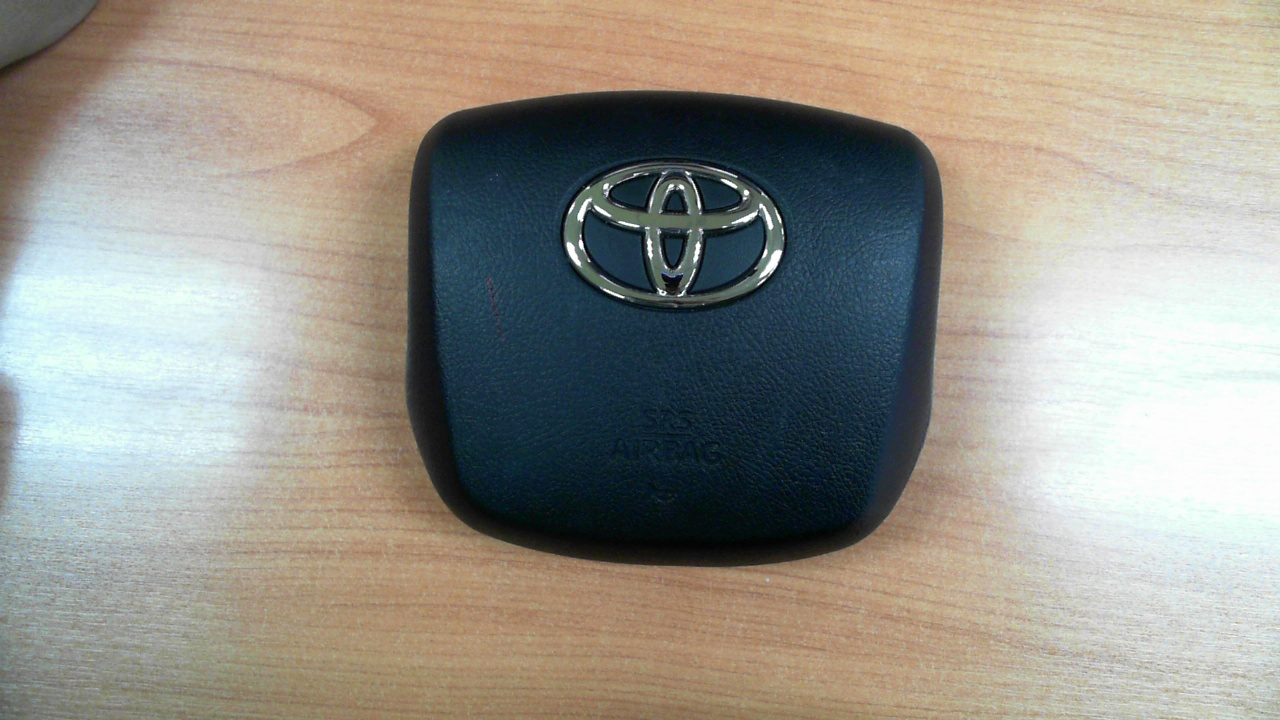Airbag: (406, 91, 943, 568)
Toyota: (561, 162, 787, 310)
